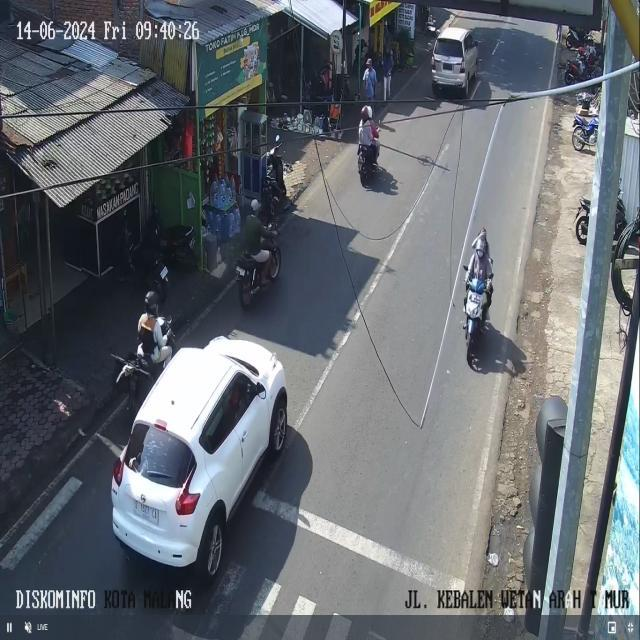Helmet: (145, 290, 159, 315), (250, 199, 260, 212), (361, 106, 368, 120), (476, 248, 484, 257)
Number Plate: (135, 501, 158, 524), (469, 292, 481, 303), (160, 266, 167, 278), (236, 267, 245, 275), (189, 237, 194, 248), (443, 63, 452, 69)
Rearview Mirror: (256, 383, 265, 398), (275, 134, 280, 144), (463, 265, 467, 270)
